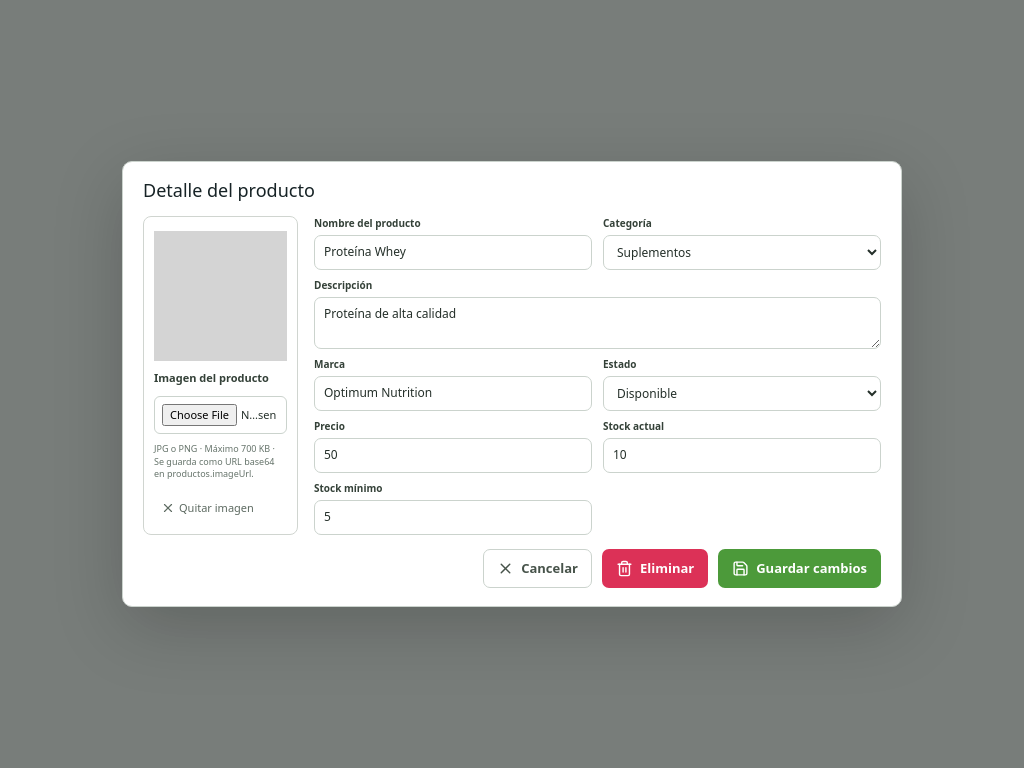
Test case: ProductoDetalleModal › elimina la imagen al hacer clic en Quitar imagen
What coordinates should you click on to do the following:
click the button "Quitar imagen"
I would click on:
 (207, 508)
Its box is [154,497,261,519].
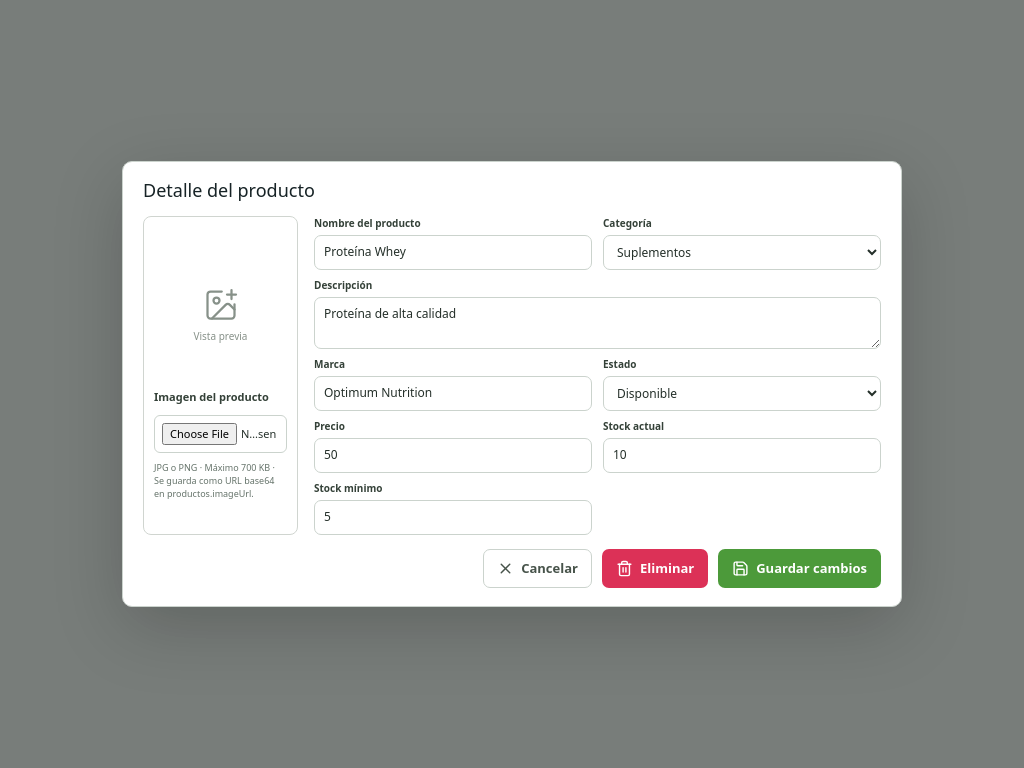
Now the text "Vista previa" is shown, box [194,329,248,344]
